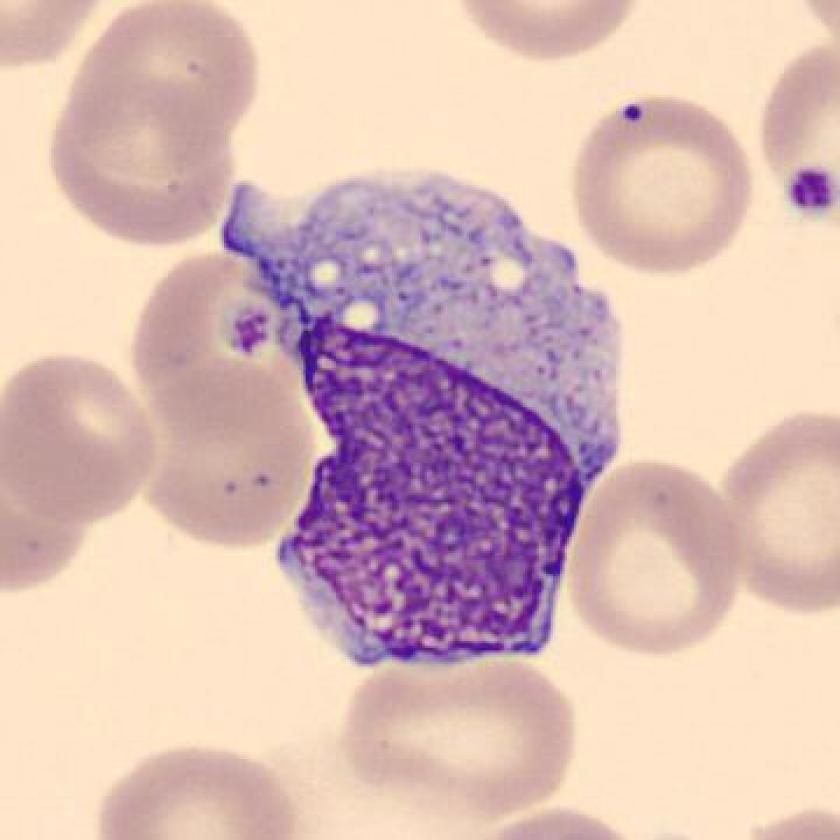monocyte: (202, 149, 645, 698)
